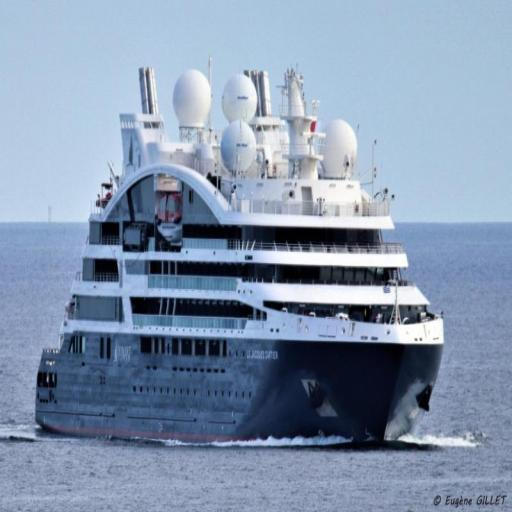cruises: (36, 53, 448, 453)
